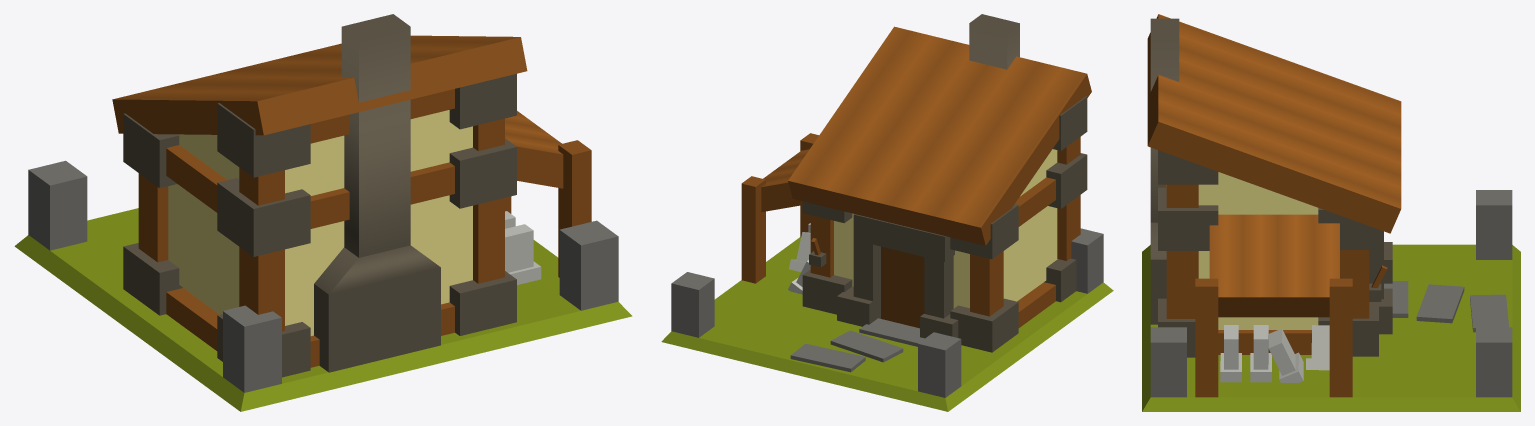
The model's file is cemetary_gravekeeper.fbx.
3 views of the same model, side by side, from view 1: azimuth 30°, elevation 25°; view 2: azimuth 150°, elevation 25°; view 3: azimuth 270°, elevation 25° (orthographic). The views are drawn at different scales.
Parts seen in each view (by area): view 1: polySurface3438; view 2: polySurface3438; view 3: polySurface3438.
Boxes of the visible parts, <box> form: polySurface3438: <box>14,14,632,411</box>; polySurface3438: <box>661,14,1113,411</box>; polySurface3438: <box>1142,14,1520,411</box>.
Size of the model in its own units: 105 by 87.89 by 105.
Materials: 1 (1 with a texture image).
